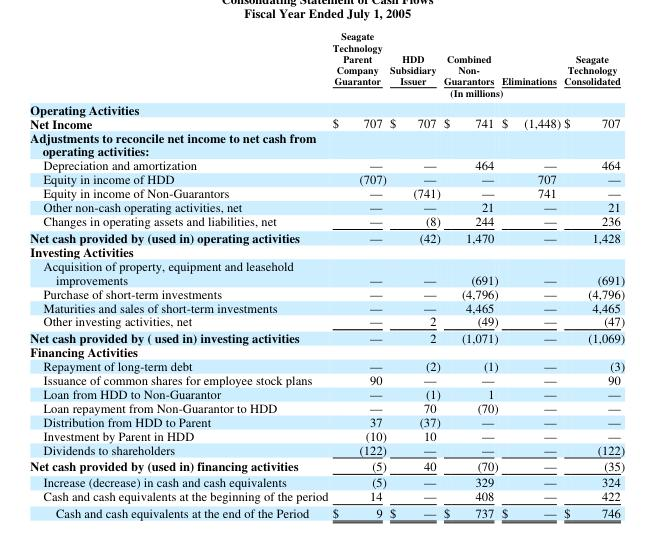table: (29, 28, 624, 520)
table column: (29, 28, 329, 520), (561, 28, 624, 520), (499, 28, 561, 520), (329, 28, 387, 520), (441, 28, 499, 520), (387, 28, 441, 520)
table column header: (29, 28, 624, 100)
table projected row header: (29, 130, 624, 157), (29, 100, 624, 116), (29, 244, 624, 258), (29, 344, 624, 358)
table row: (29, 28, 624, 86), (29, 130, 624, 157), (29, 258, 624, 285), (29, 456, 624, 473), (29, 503, 624, 520), (29, 100, 624, 116), (29, 228, 624, 244), (29, 328, 624, 344), (29, 213, 624, 228), (29, 313, 624, 328), (29, 441, 624, 456), (29, 473, 624, 488), (29, 488, 624, 503), (29, 86, 624, 100), (29, 116, 624, 130), (29, 157, 624, 171), (29, 171, 624, 185), (29, 185, 624, 199), (29, 199, 624, 213), (29, 244, 624, 258), (29, 285, 624, 299), (29, 299, 624, 313), (29, 344, 624, 358), (29, 371, 624, 385), (29, 385, 624, 399), (29, 399, 624, 413), (29, 413, 624, 427), (29, 427, 624, 441), (29, 358, 624, 371)
table spanning cell: (329, 86, 624, 100)
